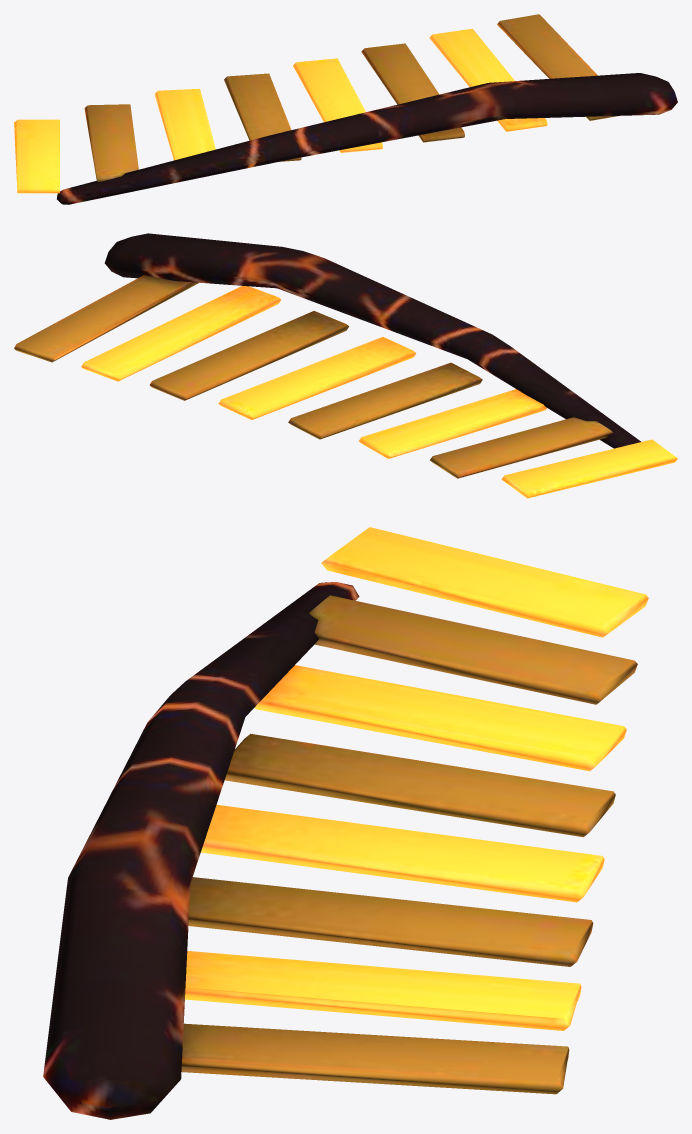
File: u_harrierwingR_x_g.glb
The picture shows the model from 3 angles, top to bottom: view 1: azimuth 30°, elevation 25°; view 2: azimuth 150°, elevation 25°; view 3: azimuth 270°, elevation 25°; orthographic projection. The views are drawn at different scales.
Visible parts, largest first — view 1: u_harrierwingR_x; view 2: u_harrierwingR_x; view 3: u_harrierwingR_x.
Boxes of the visible parts, left/top/right/bottom form: u_harrierwingR_x: left=14, top=14, right=677, bottom=204; u_harrierwingR_x: left=14, top=233, right=677, bottom=498; u_harrierwingR_x: left=43, top=527, right=648, bottom=1119.
Bounding box in the file's own units: 1.52 × 0.1476 × 0.6752.
1 material, 1 textured.
